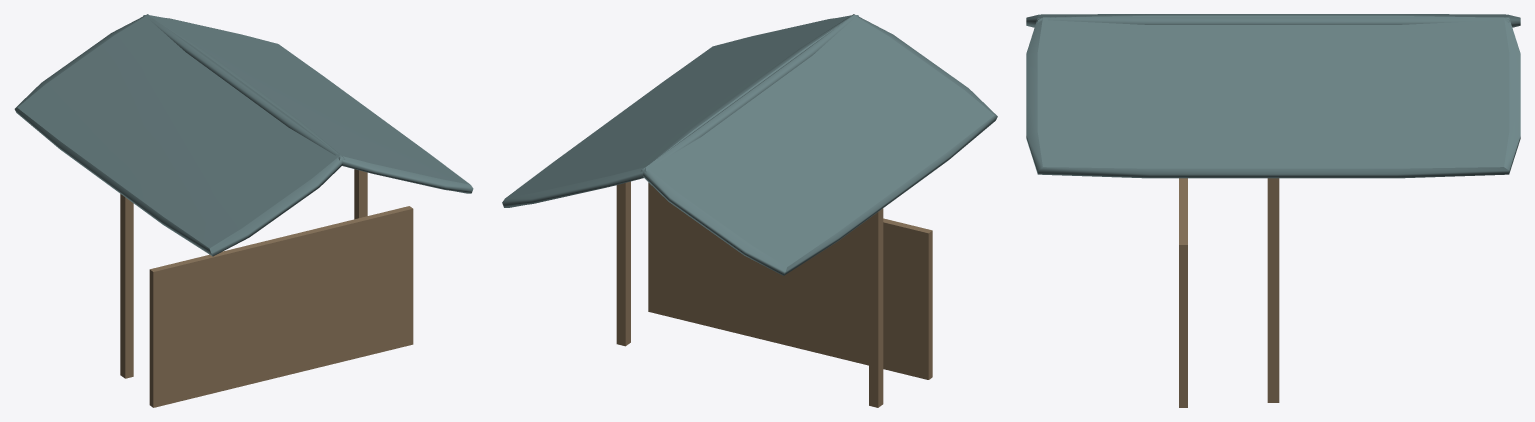
File: roadside_shelter.glb
3 views of the same model, side by side, from view 1: azimuth 30°, elevation 25°; view 2: azimuth 150°, elevation 25°; view 3: azimuth 270°, elevation 25° (orthographic). The views are drawn at different scales.
Visible parts, largest first — view 1: static_roof_blue, static_wood; view 2: static_roof_blue, static_wood; view 3: static_roof_blue, static_wood.
Boxes of the visible parts, <box> form: static_roof_blue: <box>14,14,473,256</box>; static_wood: <box>120,169,413,407</box>; static_roof_blue: <box>502,14,997,275</box>; static_wood: <box>616,181,932,407</box>; static_roof_blue: <box>1026,14,1520,178</box>; static_wood: <box>1179,178,1279,407</box>.
Size of the model in its own units: 4.14 by 3.87 by 5.5.
